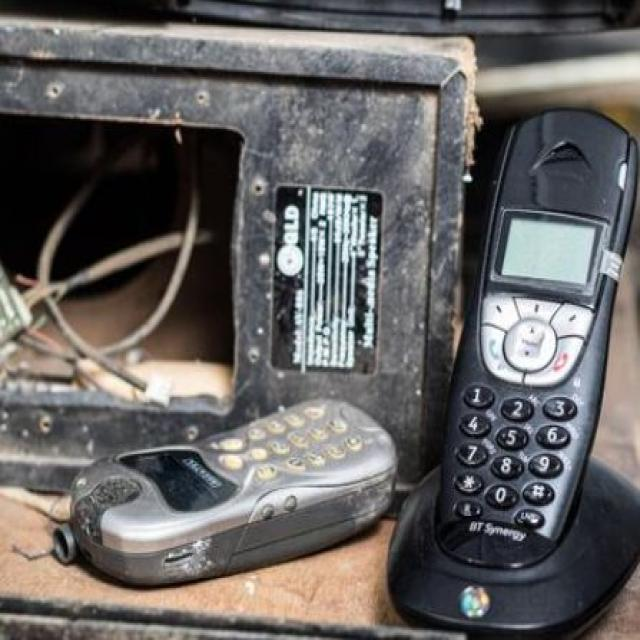electronic: (404, 62, 638, 640), (5, 388, 472, 640), (466, 76, 639, 640)
